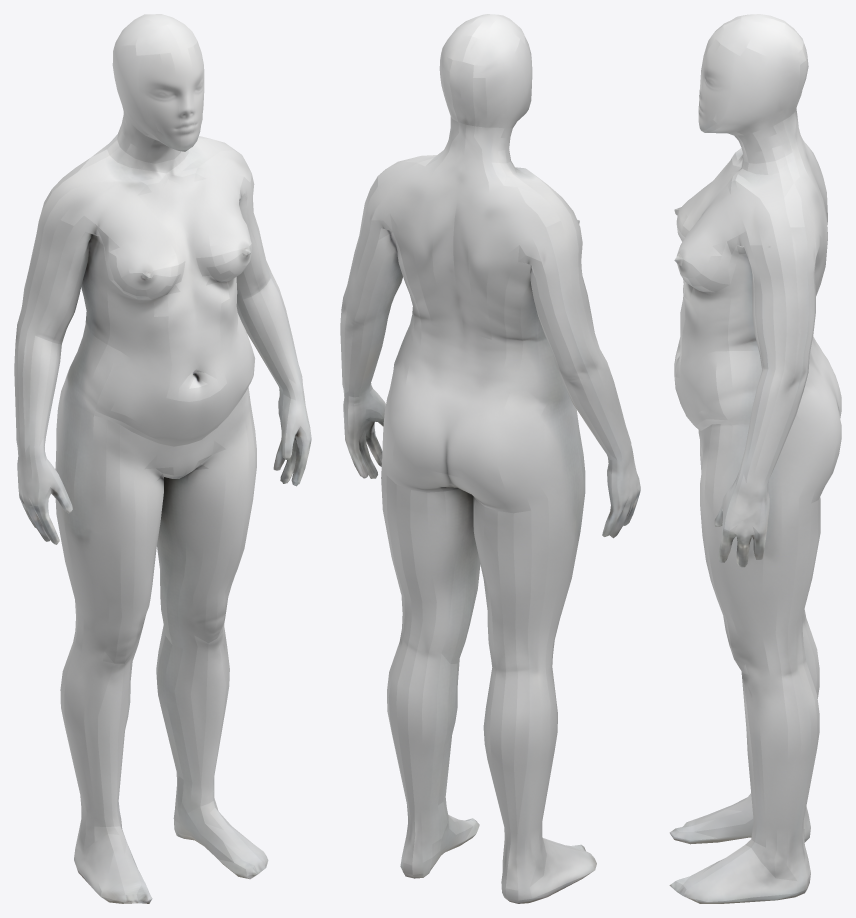
Rendered from avatar_female.glb.
The picture shows the model from 3 angles, left to right: view 1: azimuth 30°, elevation 25°; view 2: azimuth 150°, elevation 25°; view 3: azimuth 270°, elevation 25°; orthographic projection.
Parts seen in each view (by area): view 1: model; view 2: model; view 3: model.
Boxes of the visible parts, x1,y1,x2,y2 form: model: [14, 14, 311, 903]; model: [340, 14, 640, 903]; model: [669, 14, 841, 903].
Size of the model in its own units: 0.6622 by 1.9 by 0.3484.
Materials: 1 (1 with a texture image).
